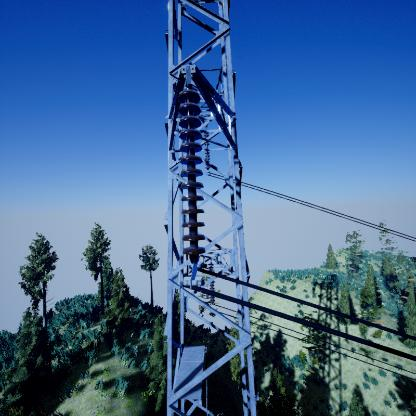insulator: (174, 88, 209, 267)
